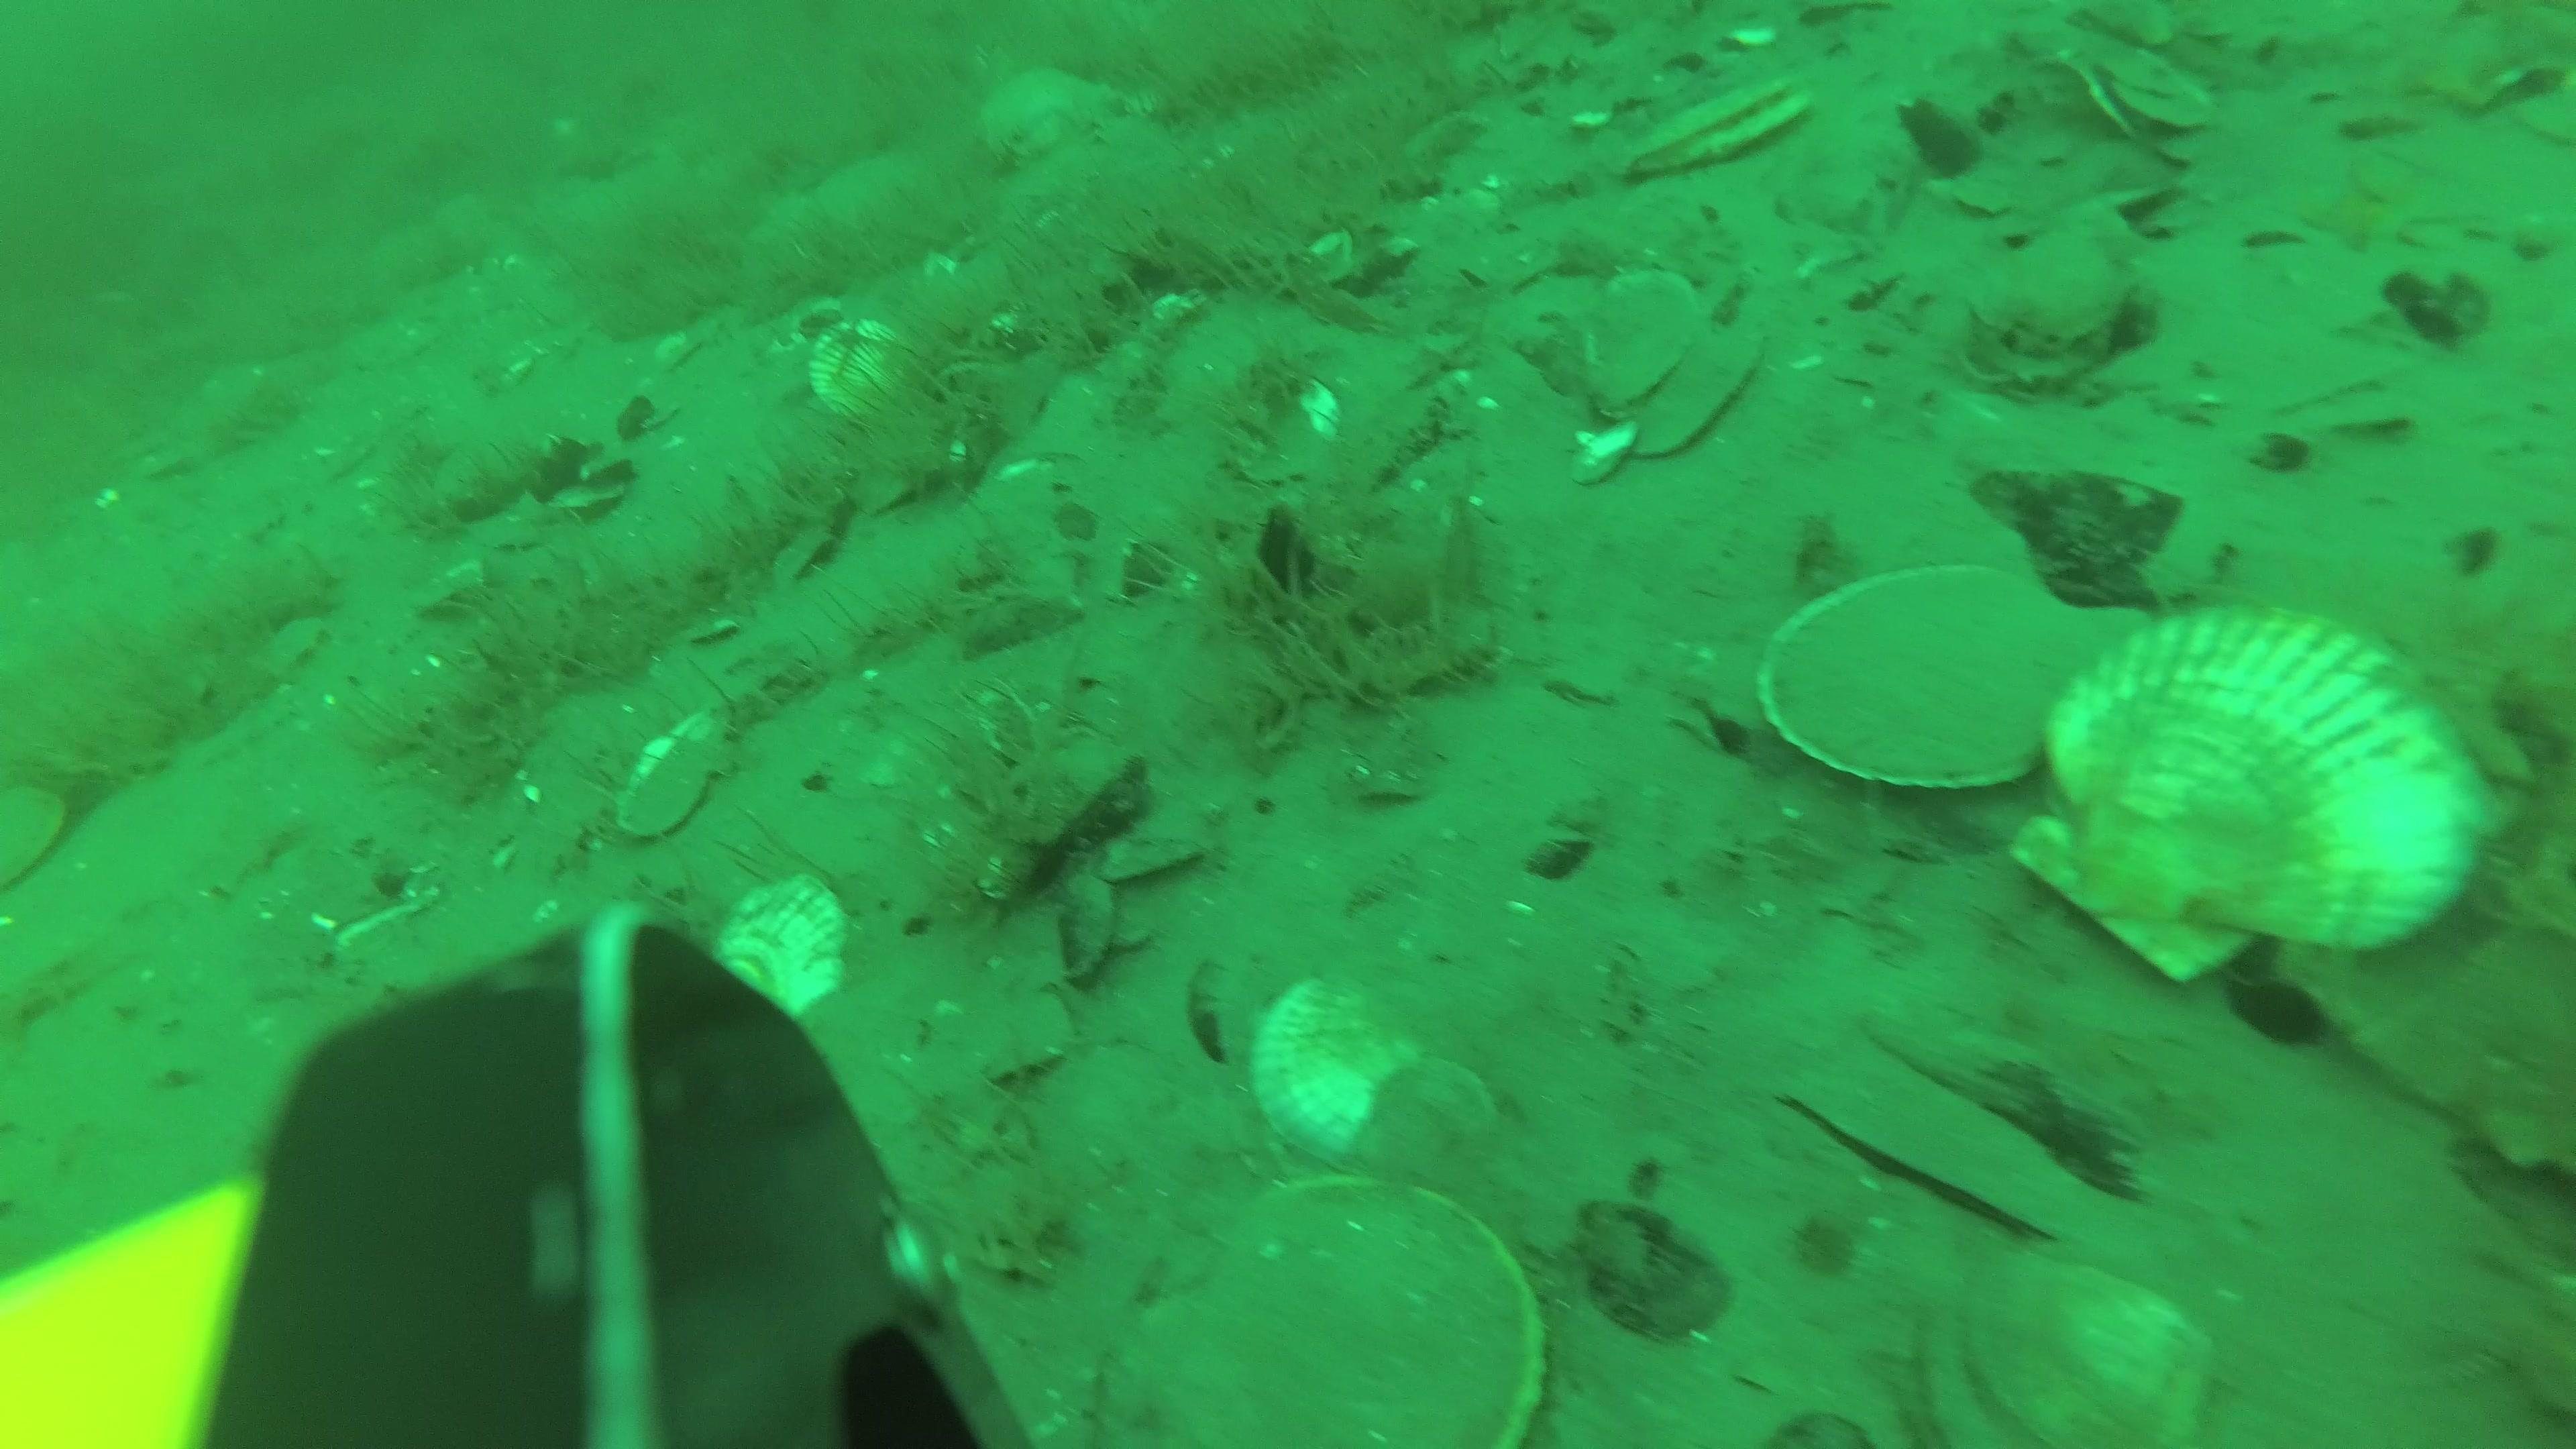scallop: (2020, 610, 2466, 985), (1198, 1191, 1552, 1449), (1741, 563, 2084, 789), (1962, 1249, 2219, 1449), (1254, 971, 1415, 1161), (702, 874, 853, 1019), (1621, 322, 1755, 465), (1608, 83, 1803, 180), (1578, 274, 1693, 416), (621, 708, 743, 828), (1375, 1063, 1497, 1178), (805, 318, 911, 421), (0, 786, 62, 888)
starfish: (980, 64, 1123, 161)
